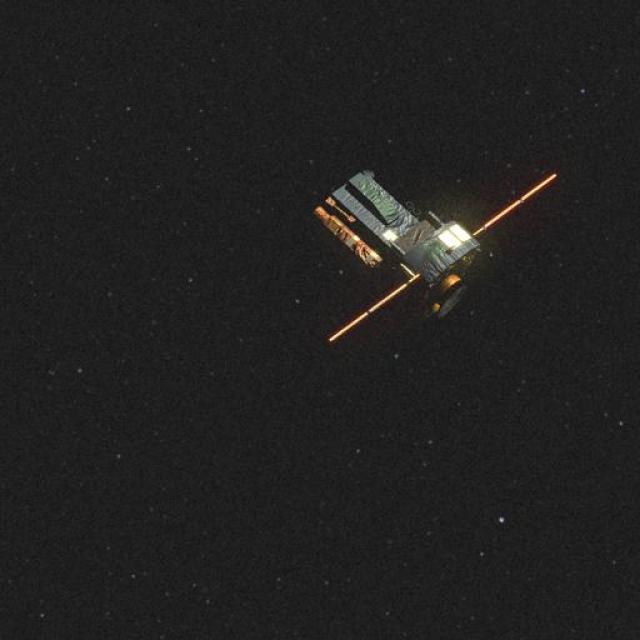soho: (273, 168, 547, 352)
